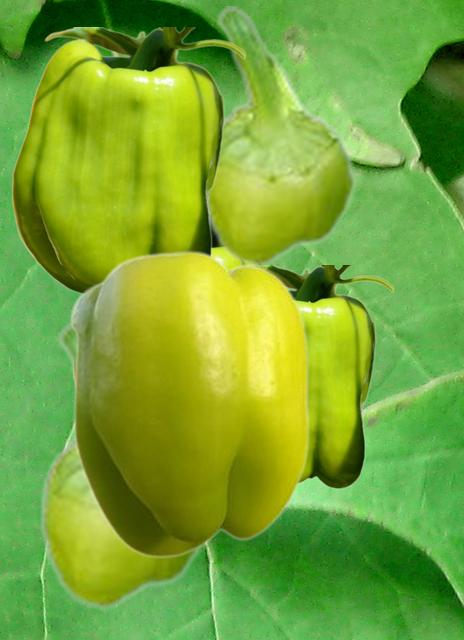bell_pepper: (69, 249, 308, 557), (11, 27, 245, 293), (38, 323, 210, 609), (209, 6, 356, 265), (261, 265, 393, 489)
